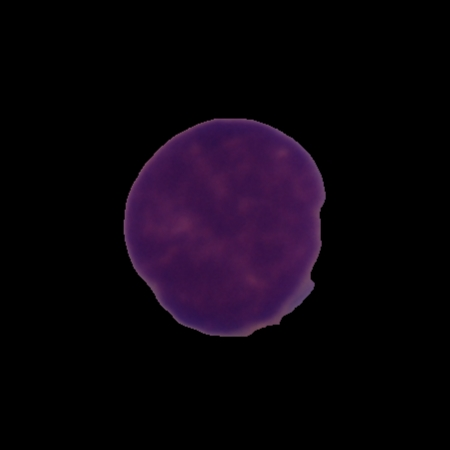ALL: (121, 114, 330, 342)
